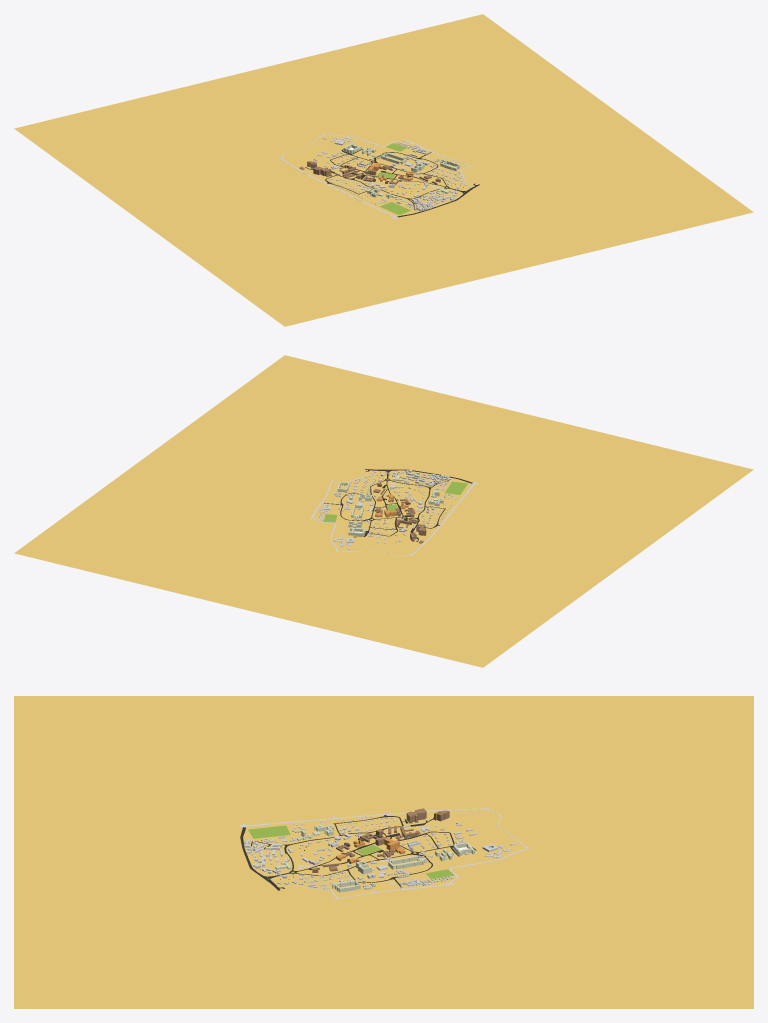
3 views of the same model, one above another, from view 1: azimuth 30°, elevation 25°; view 2: azimuth 150°, elevation 25°; view 3: azimuth 270°, elevation 25° (orthographic). The views are drawn at different scales.
Visible parts, largest first — view 1: Sketchup; view 2: Sketchup; view 3: Sketchup.
Part boxes in pixels (box(x1,y1,x2,y2)): Sketchup: box(14, 14, 753, 326); Sketchup: box(14, 355, 753, 667); Sketchup: box(14, 696, 753, 1008).
Bounding box in the file's own units: 4000 × 41.48 × 4000.
